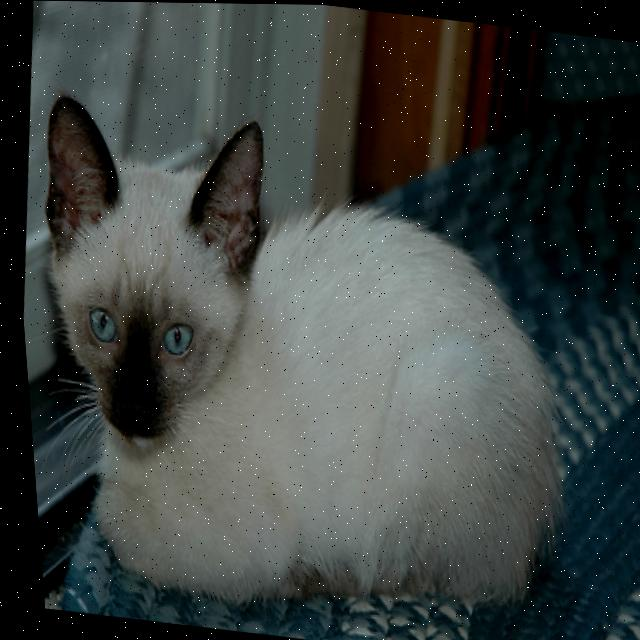Siamese: (5, 88, 593, 636)
